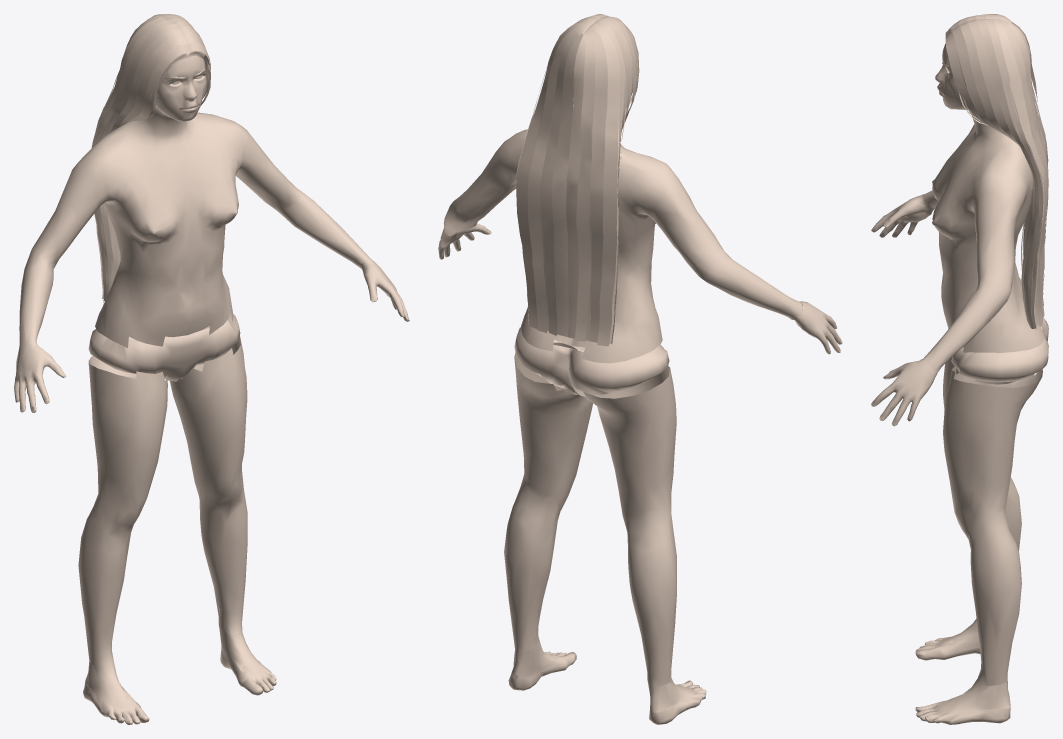
Rendered from female-base.glb.
3 views of the same model, side by side, from view 1: azimuth 30°, elevation 25°; view 2: azimuth 150°, elevation 25°; view 3: azimuth 270°, elevation 25° (orthographic). The views are drawn at different scales.
Visible parts, largest first — view 1: Female_Base_Character; view 2: Female_Base_Character; view 3: Female_Base_Character.
Part boxes in pixels (left/top/right/bottom): Female_Base_Character: left=14, top=14, right=409, bottom=724; Female_Base_Character: left=438, top=14, right=842, bottom=724; Female_Base_Character: left=871, top=14, right=1048, bottom=724.
Size of the model in its own units: 0.9734 by 1.6 by 0.3855.
